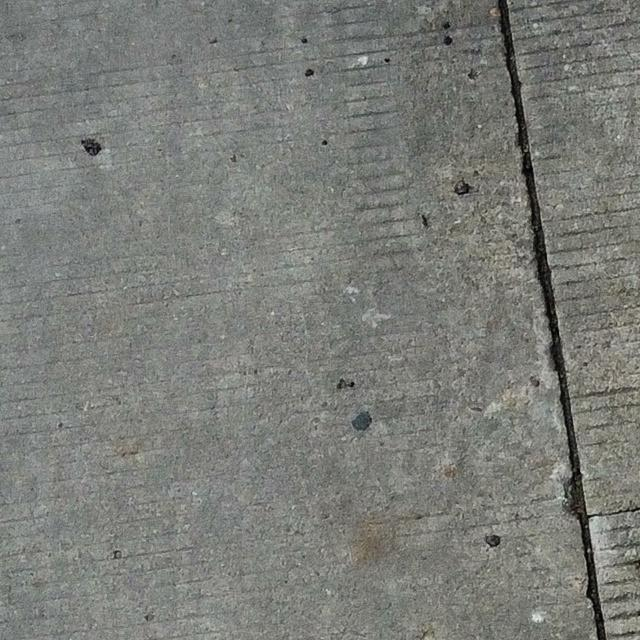LongitudinalCrack: (498, 1, 607, 640)
